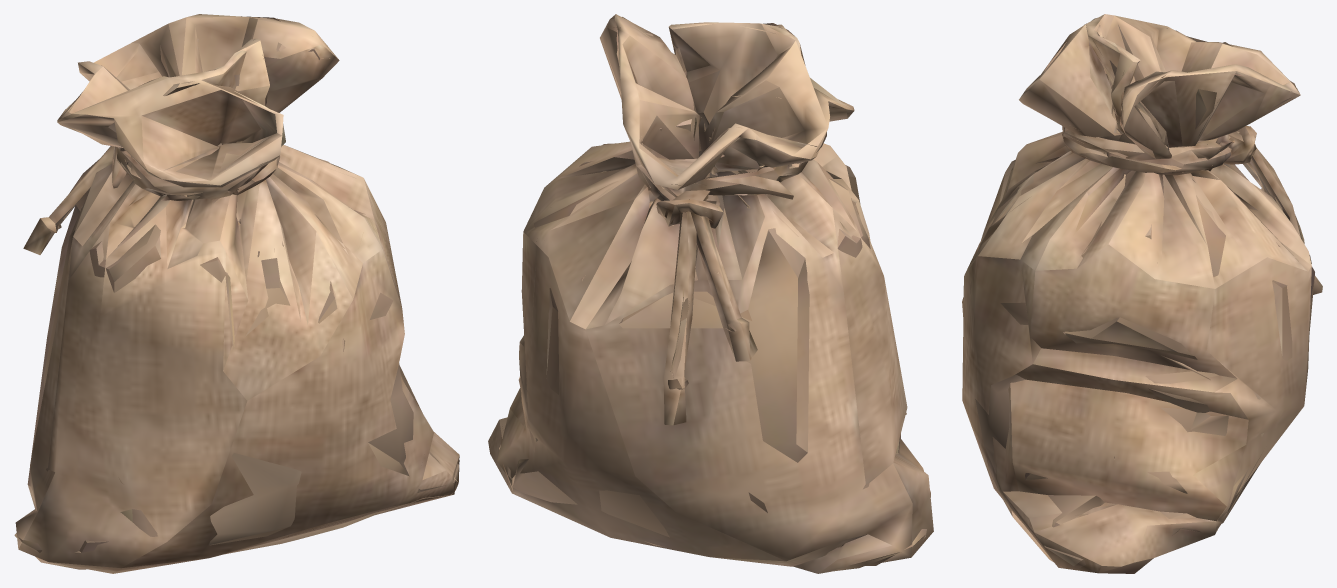
3 views of the same model, side by side, from view 1: azimuth 30°, elevation 25°; view 2: azimuth 150°, elevation 25°; view 3: azimuth 270°, elevation 25° (orthographic). The views are drawn at different scales.
Parts seen in each view (by area): view 1: geometry_0; view 2: geometry_0; view 3: geometry_0.
Part boxes in pixels (x1,y1,x2,y2): geometry_0: (14, 14, 459, 573); geometry_0: (488, 14, 933, 573); geometry_0: (962, 14, 1322, 573).
Size of the model in its own units: 0.3901 by 0.4169 by 0.307.
1 material, 1 textured.
